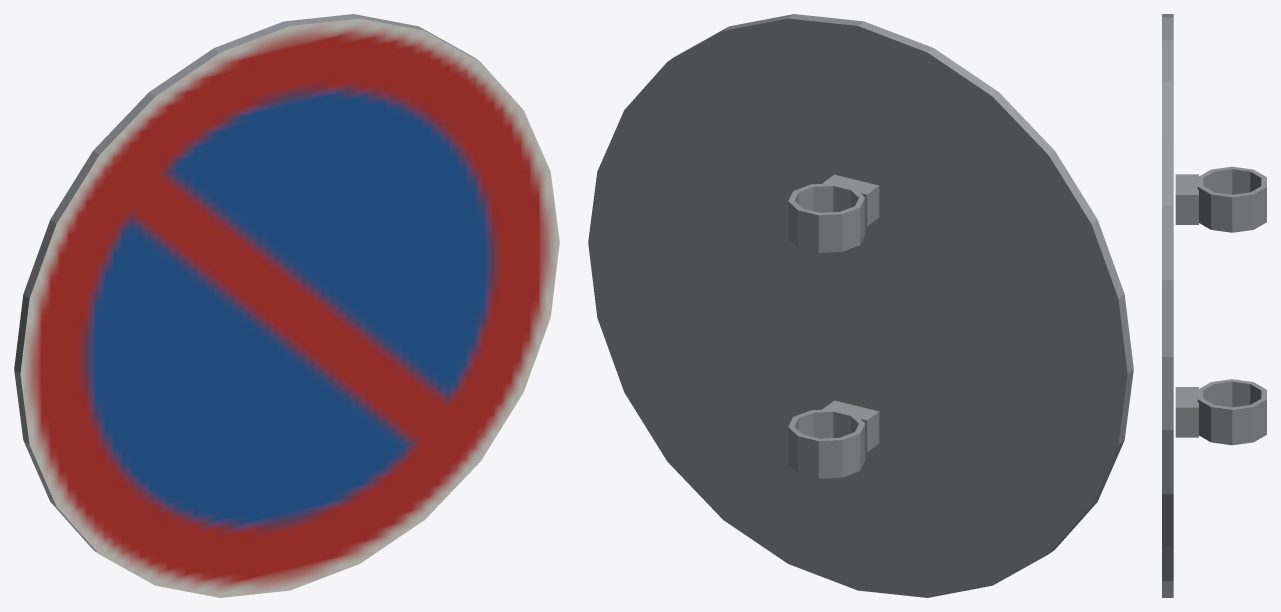
Rendered from SM_Street_Sign_NoParking_01.fbx.
The picture shows the model from 3 angles, left to right: view 1: azimuth 30°, elevation 25°; view 2: azimuth 150°, elevation 25°; view 3: azimuth 270°, elevation 25°; orthographic projection. The views are drawn at different scales.
Visible parts, largest first — view 1: SM_Street_Sign_NoParking_01; view 2: SM_Street_Sign_NoParking_01; view 3: SM_Street_Sign_NoParking_01.
Part boxes in pixels (<box>): SM_Street_Sign_NoParking_01: <box>14,14,559,597</box>; SM_Street_Sign_NoParking_01: <box>588,14,1133,597</box>; SM_Street_Sign_NoParking_01: <box>1162,14,1266,597</box>.
Size of the model in its own units: 0.6 by 0.6 by 0.1074.
1 material, 1 textured.
